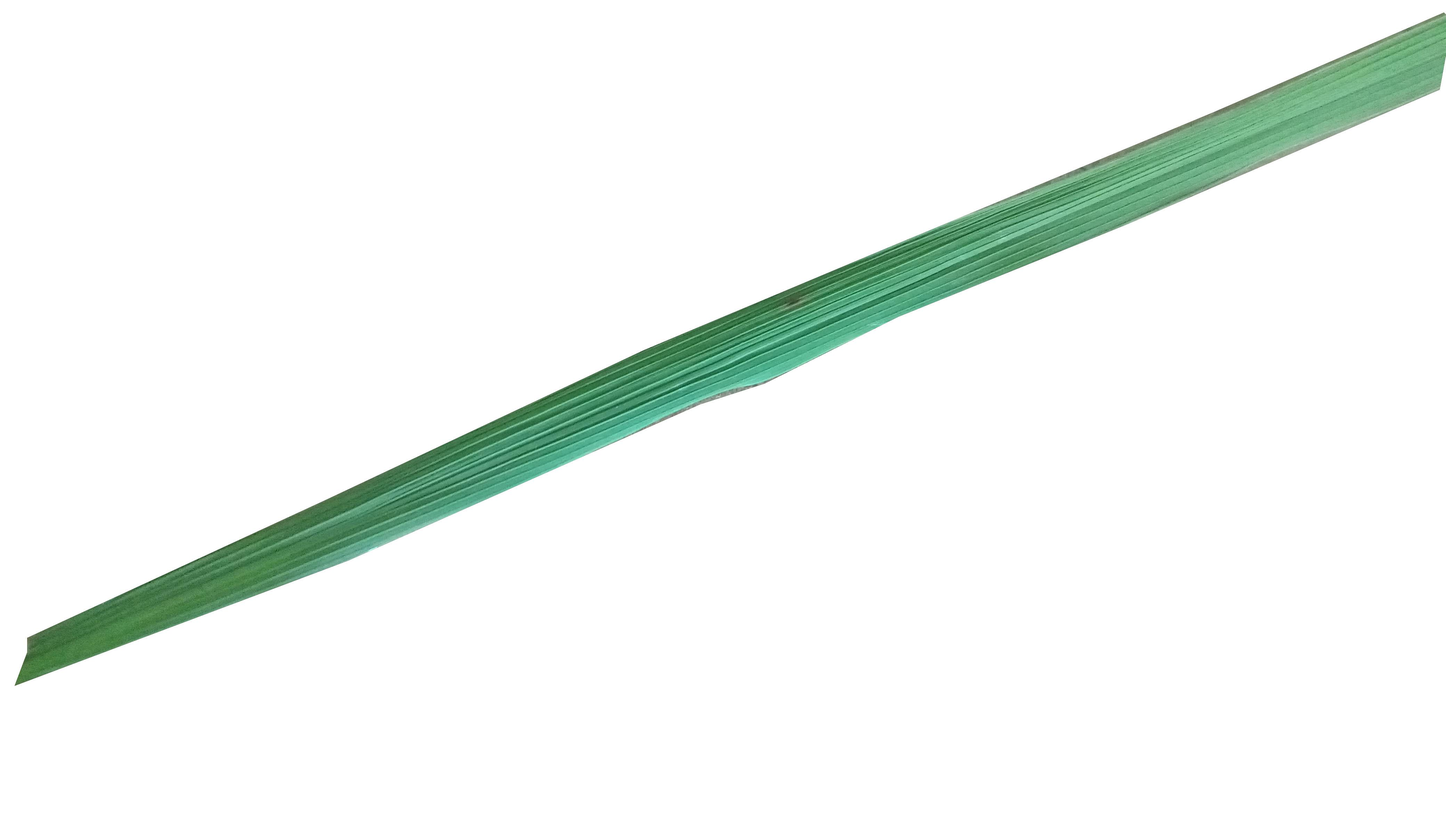Brown spot: (782, 295, 812, 311)
